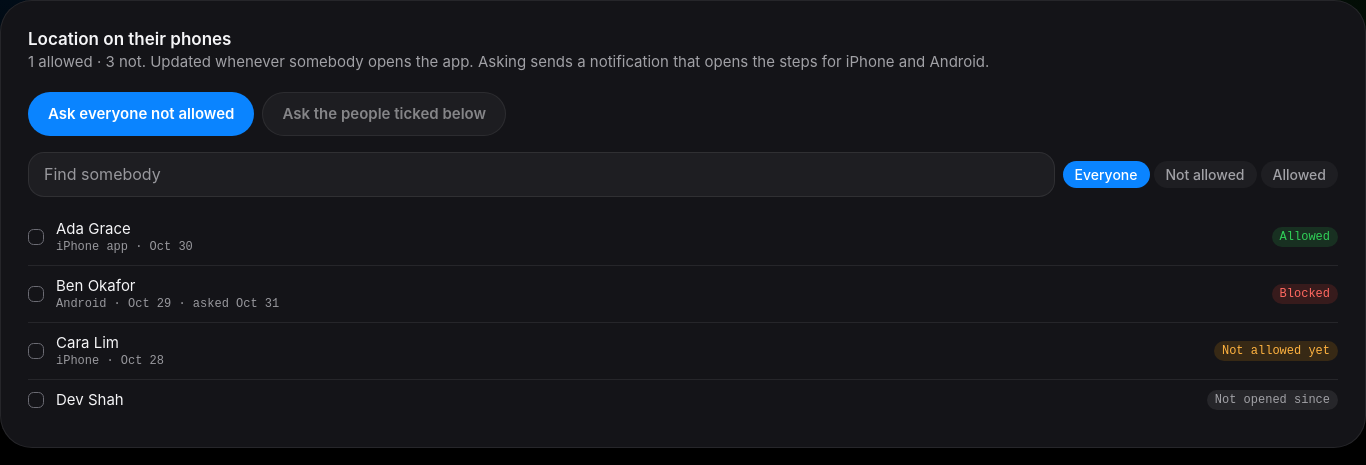
Settings › Onboarding › Location on their phones › shows only those not allowing it
This screenshot has width=1366, height=465.
Expected: the list item "Ada Grace" is shown, [28,209,1338,266]
Click the button "Not allowed" at (1205, 174), box [1154,161,1256,188]
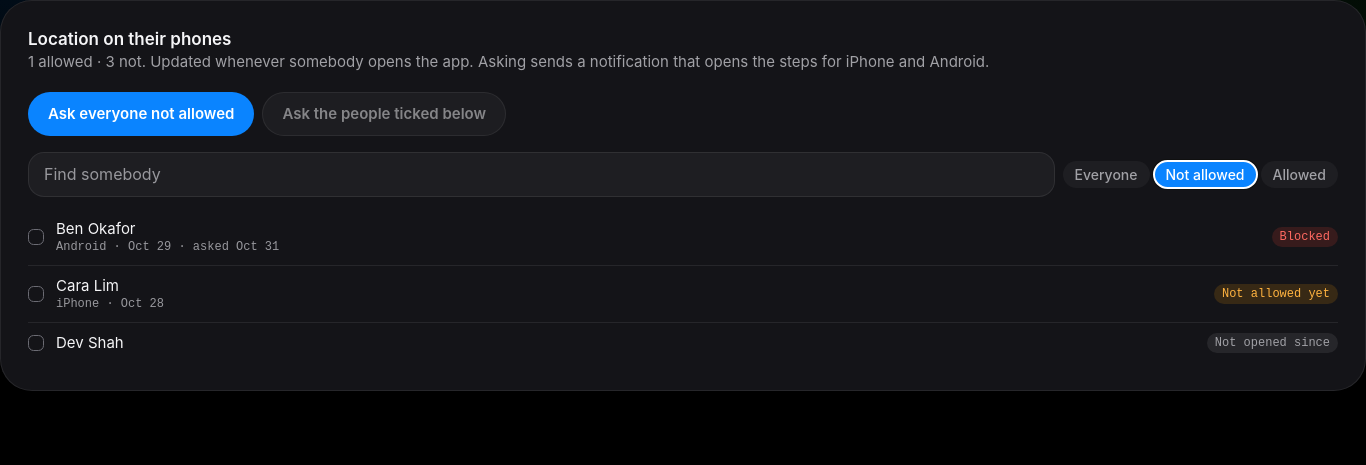
Expected: the text "Ada Grace" is gone
Expected: the number of list items is 3, [28,209,1338,266]; [28,266,1338,323]; [28,333,1338,353]
